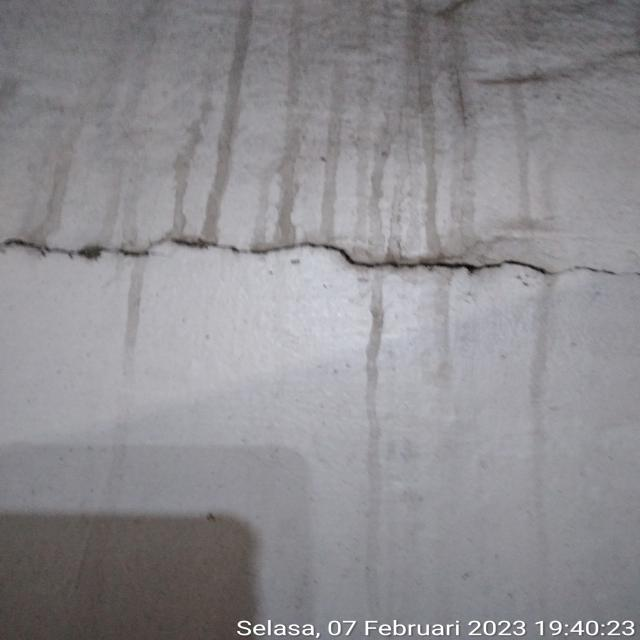Crack: (10, 230, 623, 282)
